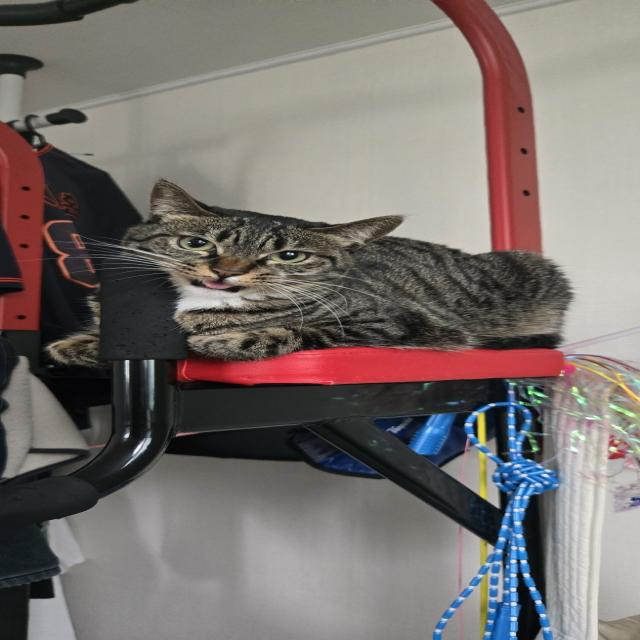cat: (124, 178, 572, 354)
